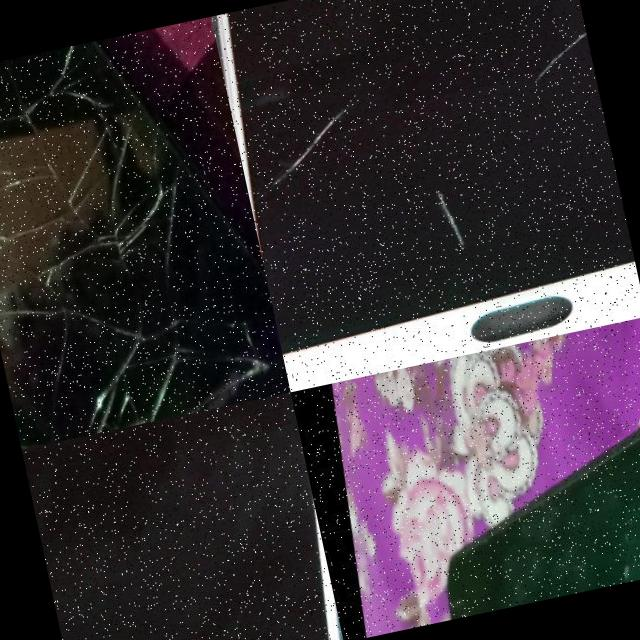scratch: (256, 106, 368, 192), (504, 0, 596, 97), (416, 184, 476, 258)
screen crack: (0, 16, 289, 449), (538, 445, 640, 595)
